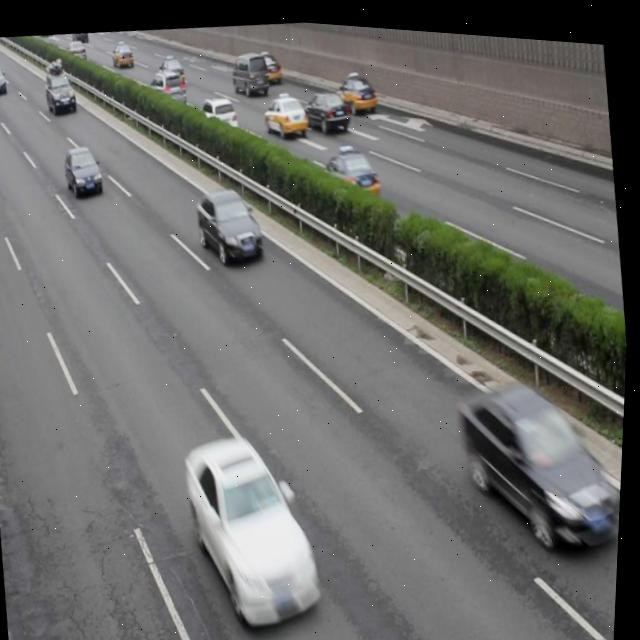car: (454, 354, 625, 553), (179, 420, 329, 629), (193, 176, 267, 267), (319, 139, 383, 209), (61, 139, 108, 204), (259, 85, 310, 137), (301, 81, 352, 133), (195, 89, 240, 136), (334, 65, 376, 115), (146, 61, 187, 107), (156, 51, 187, 85), (258, 43, 285, 82)
truck: (228, 44, 270, 94)
